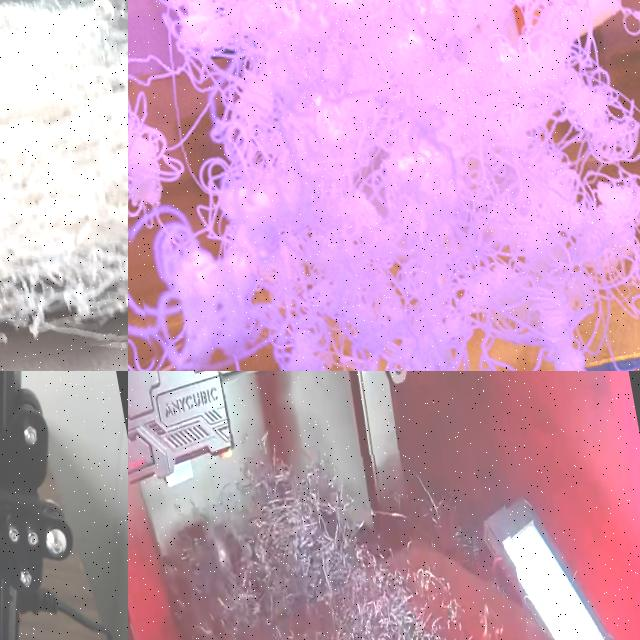spaghetti: (128, 0, 640, 371), (128, 414, 553, 640)
